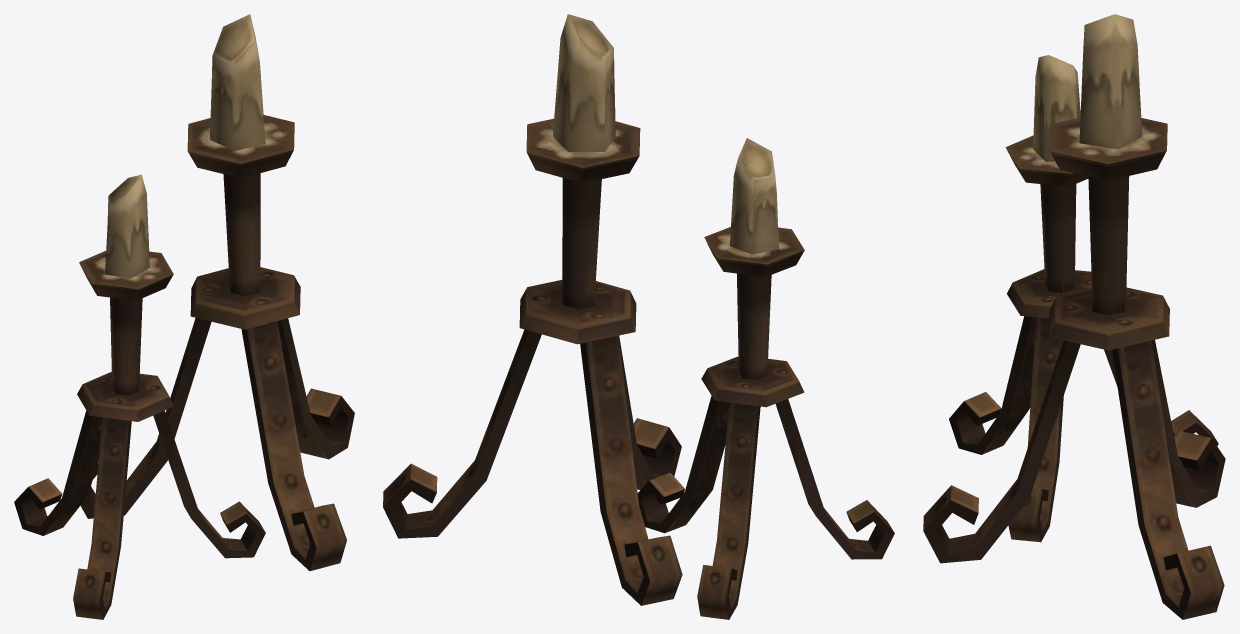
The model's file is h5_lazhu.FBX.
The picture shows the model from 3 angles, left to right: view 1: azimuth 30°, elevation 25°; view 2: azimuth 150°, elevation 25°; view 3: azimuth 270°, elevation 25°; orthographic projection. The views are drawn at different scales.
Parts seen in each view (by area): view 1: h5_lazhu; view 2: h5_lazhu; view 3: h5_lazhu.
Part boxes in pixels (<box>): h5_lazhu: <box>14,14,354,619</box>; h5_lazhu: <box>383,14,894,619</box>; h5_lazhu: <box>923,14,1225,619</box>.
Size of the model in its own units: 1.74 by 2.18 by 1.09.
Materials: 1 (1 with a texture image).
